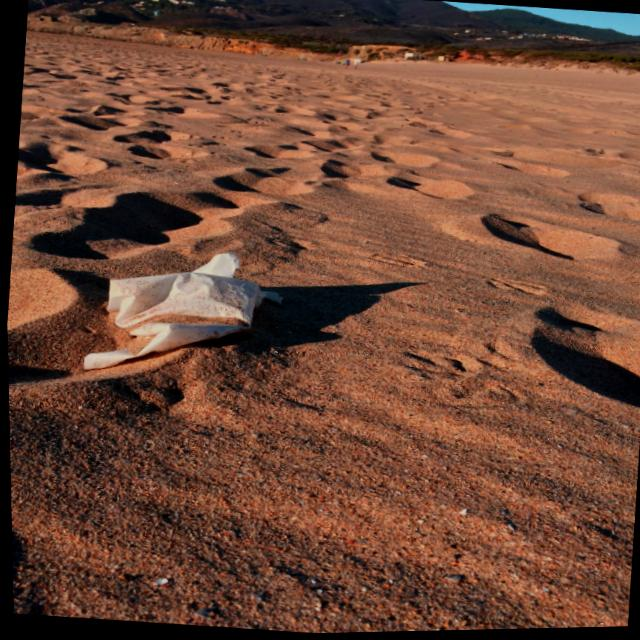Plastic: (70, 234, 295, 392)
